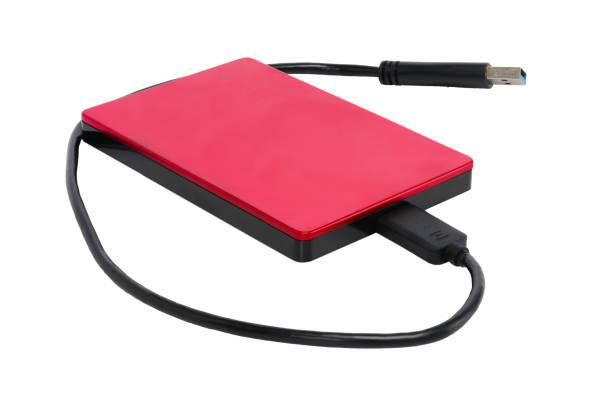HDD: (80, 58, 473, 264)
